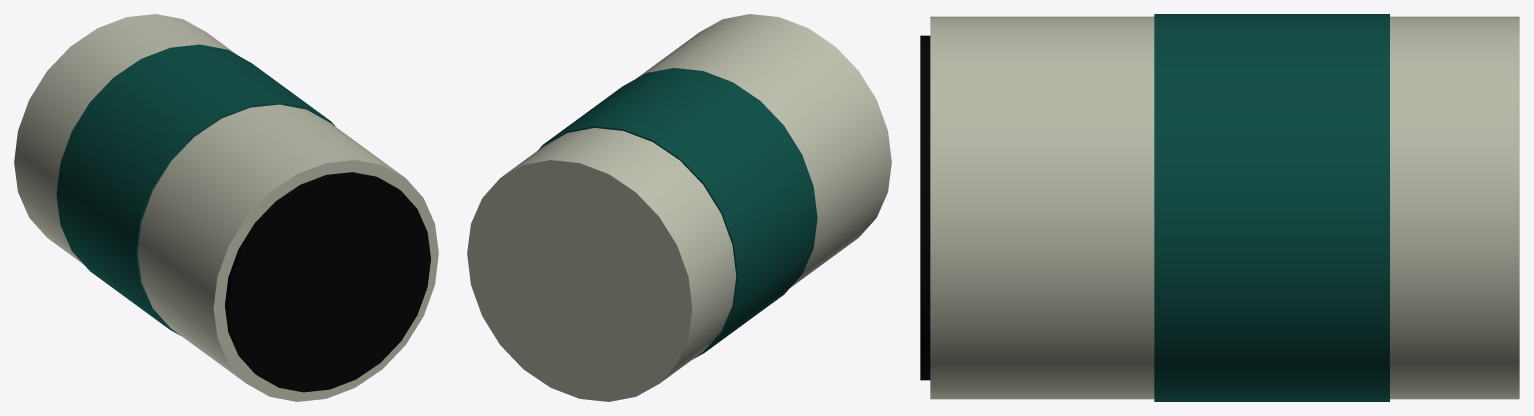
File: Cup_001.obj
3 views of the same model, side by side, from view 1: azimuth 30°, elevation 25°; view 2: azimuth 150°, elevation 25°; view 3: azimuth 270°, elevation 25° (orthographic). The views are drawn at different scales.
Visible parts, largest first — view 1: Cup_001_Copo_Mesh, Cup_001_Borda_Mesh, Cup_001_Faixa_Mesh; view 2: Cup_001_Copo_Mesh, Cup_001_Faixa_Mesh; view 3: Cup_001_Copo_Mesh, Cup_001_Faixa_Mesh, Cup_001_Borda_Mesh.
Boxes of the visible parts, x1=… form: Cup_001_Copo_Mesh: x1=14, y1=14, x2=438, y2=401; Cup_001_Borda_Mesh: x1=225, y1=172, x2=430, y2=392; Cup_001_Faixa_Mesh: x1=56, y1=44, x2=335, y2=335; Cup_001_Copo_Mesh: x1=467, y1=14, x2=891, y2=401; Cup_001_Faixa_Mesh: x1=538, y1=68, x2=817, y2=358; Cup_001_Copo_Mesh: x1=930, y1=16, x2=1519, y2=399; Cup_001_Faixa_Mesh: x1=1154, y1=14, x2=1389, y2=401; Cup_001_Borda_Mesh: x1=920, y1=35, x2=930, y2=380.
Bounding box in the file's own units: 0.076 × 0.076 × 0.117.
